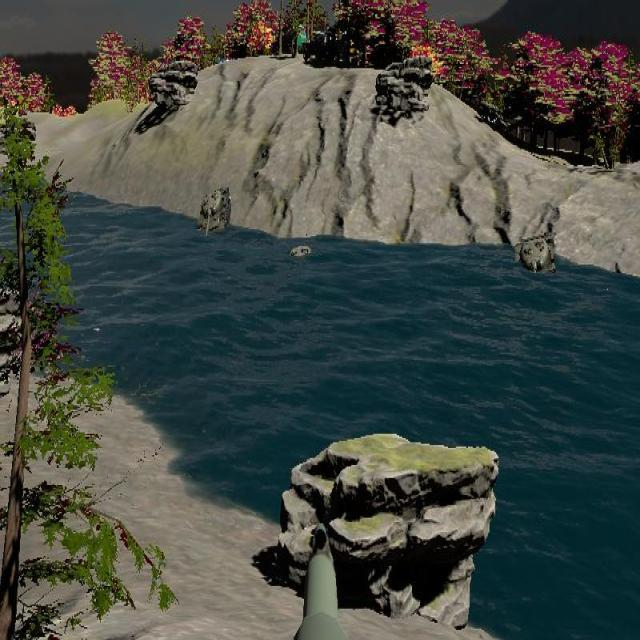Tank: (196, 183, 232, 241)
